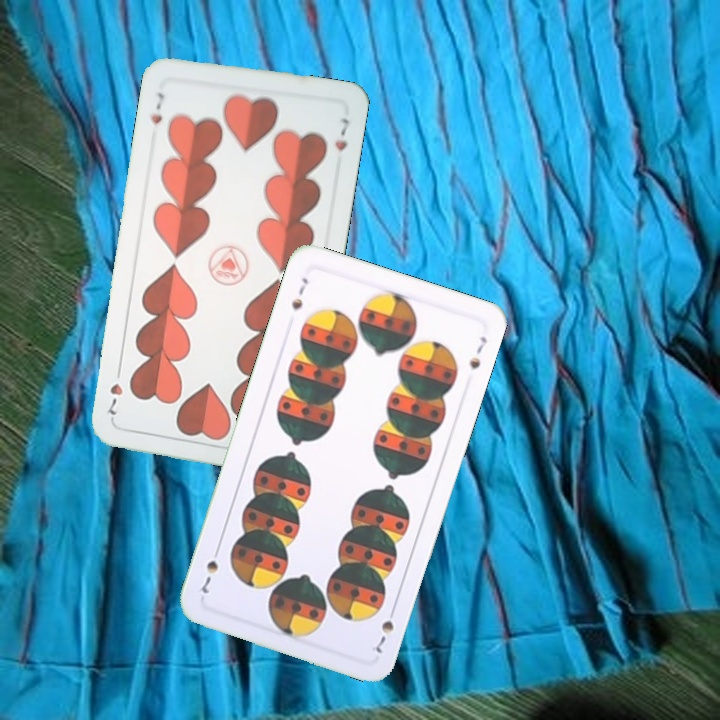H7: (146, 88, 167, 127)
S7: (371, 601, 399, 656), (287, 273, 311, 312)
